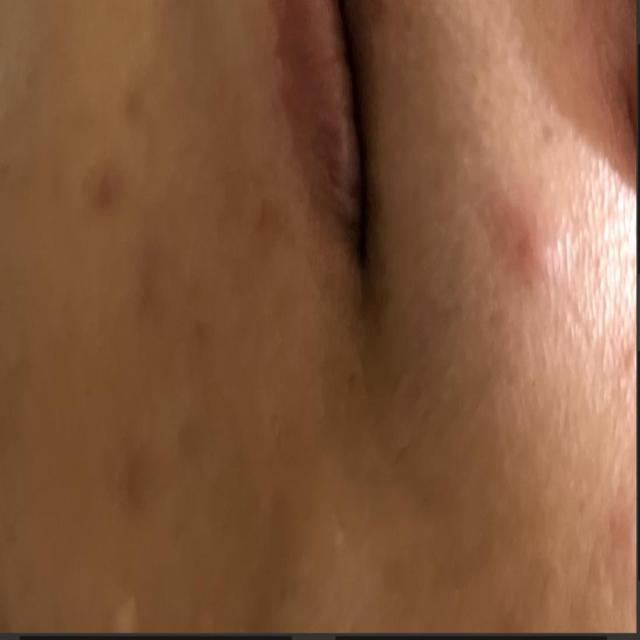papule: (454, 173, 550, 315)
